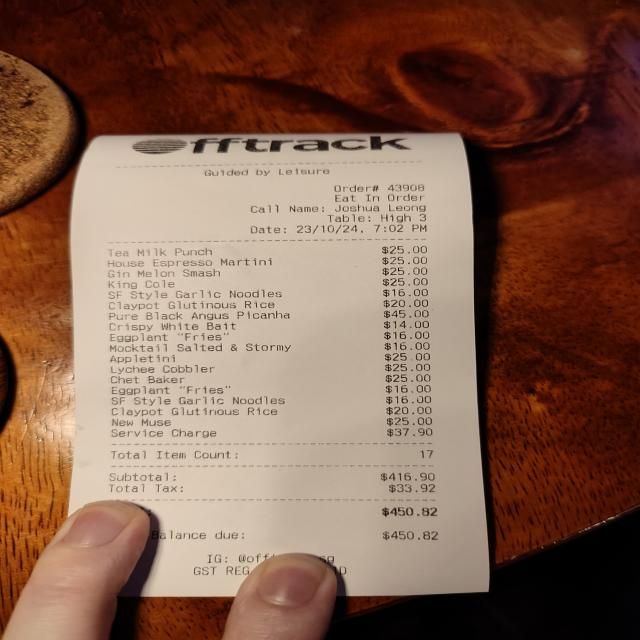bill_region: (92, 245, 444, 544)
